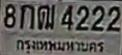2: (90, 4, 104, 30), (75, 4, 88, 30), (106, 4, 119, 30)
4: (61, 4, 72, 29)
8: (3, 3, 15, 27)
A01: (19, 3, 34, 28)
A18: (37, 3, 55, 29)
BKK: (15, 37, 107, 54)
